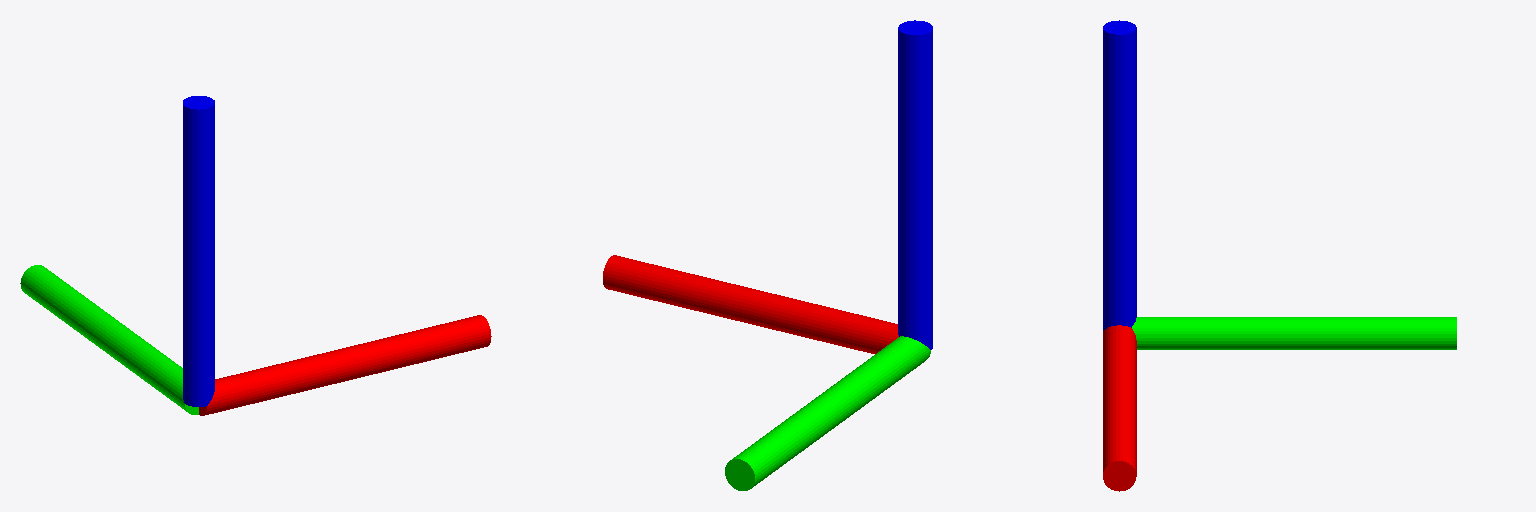
robot.urdf — frame_marker:
<?xml version="1.0" ?>
<robot name="frame_marker">

  <!-- Root -->
  <link name="frame_root"/>

  <!-- X axis (red) -->
  <link name="x_axis">
    <visual>
      <origin xyz="0.5 0 0" rpy="0 1.5708 0 "/>
      <geometry>
        <cylinder radius="0.05" length="1.0"/>
      </geometry>
      <material name="red">
        <color rgba="1 0 0 1"/>
      </material>
    </visual>
  </link>
  <joint name="frame_x_joint" type="fixed">
    <parent link="frame_root"/>
    <child link="x_axis"/>
  </joint>

  <!-- Y axis (green) -->
  <link name="y_axis">
    <visual>
      <origin xyz="0 0.5 0" rpy="1.5708 0 0"/>
      <geometry>
        <cylinder radius="0.05" length="1.0"/>
      </geometry>
      <material name="green">
        <color rgba="0 1 0 1"/>
      </material>
    </visual>
  </link>
  <joint name="frame_y_joint" type="fixed">
    <parent link="frame_root"/>
    <child link="y_axis"/>
  </joint>

  <!-- Z axis (blue) -->
  <link name="z_axis">
    <visual>
      <origin xyz="0 0 0.5" rpy="0 0 0"/>
      <geometry>
        <cylinder radius="0.05" length="1.0"/>
      </geometry>
      <material name="blue">
        <color rgba="0 0 1 1"/>
      </material>
    </visual>
  </link>
  <joint name="frame_z_joint" type="fixed">
    <parent link="frame_root"/>
    <child link="z_axis"/>
  </joint>

</robot>

--- Render facts (derived) ---
The picture shows the robot from 3 angles, left to right: view 1: azimuth 30°, elevation 25°; view 2: azimuth 150°, elevation 25°; view 3: azimuth 270°, elevation 25°; orthographic projection.
Model frame_marker with 4 links and 3 joints (3 fixed), rooted at frame_root, posed every joint at zero.
Links seen in each view (by area): view 1: z_axis, x_axis, y_axis; view 2: z_axis, x_axis, y_axis; view 3: y_axis, z_axis, x_axis.
Link boxes in pixels (x1,y1,x2,y2): z_axis: (183, 96, 214, 406); x_axis: (199, 315, 491, 415); y_axis: (20, 265, 198, 414); z_axis: (898, 20, 932, 349); x_axis: (603, 255, 898, 353); y_axis: (725, 336, 930, 490); y_axis: (1132, 317, 1456, 349); z_axis: (1103, 20, 1136, 330); x_axis: (1103, 325, 1136, 491).
Size in the robot's own frame: 1.05 by 1.05 by 1.05 metres.
Geometry: primitives only (box / cylinder / sphere), no mesh files.